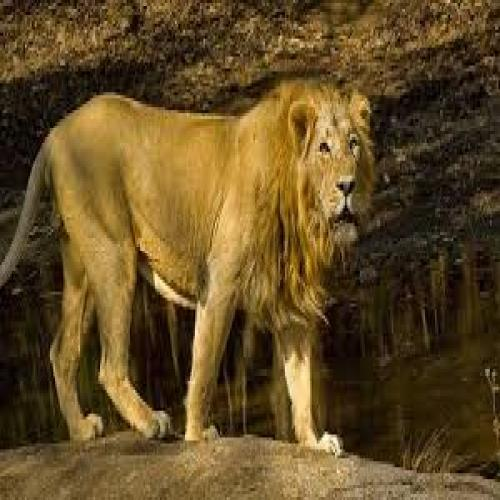lion-endangered: (12, 68, 379, 450)
